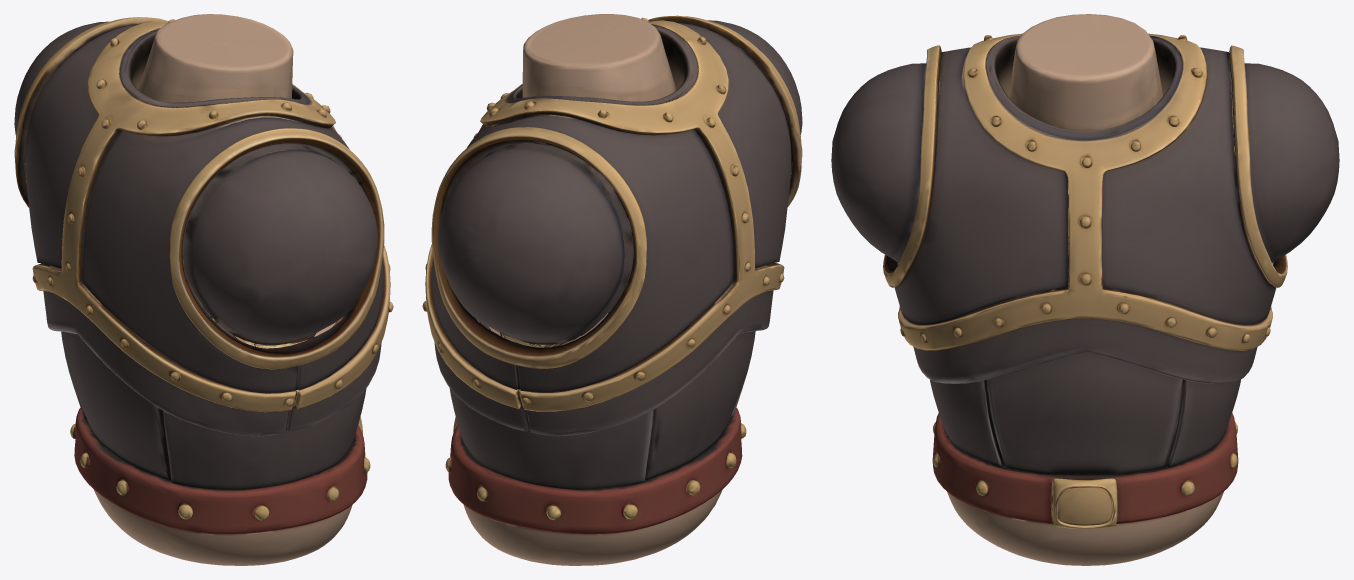
3 renders of one model, left to right at view 1: azimuth 30°, elevation 25°; view 2: azimuth 150°, elevation 25°; view 3: azimuth 270°, elevation 25°, orthographic. The views are drawn at different scales.
Visible parts, largest first — view 1: tripo_node_d484c94e; view 2: tripo_node_d484c94e; view 3: tripo_node_d484c94e.
Part boxes in pixels (box(x1,y1,x2,y2)): tripo_node_d484c94e: box(14, 14, 393, 565); tripo_node_d484c94e: box(422, 14, 802, 565); tripo_node_d484c94e: box(831, 14, 1339, 565).
Size of the model in its own units: 0.6089 by 0.9995 by 0.939.
Materials: 1 (1 with a texture image).
